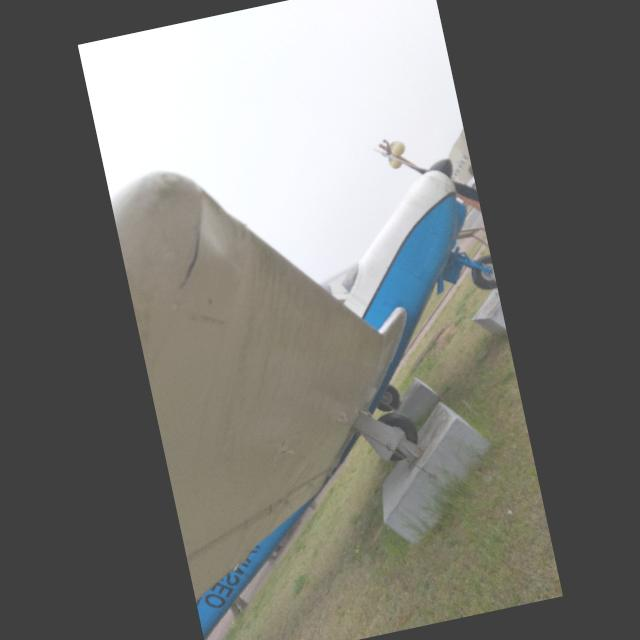dent: (181, 190, 241, 260)
